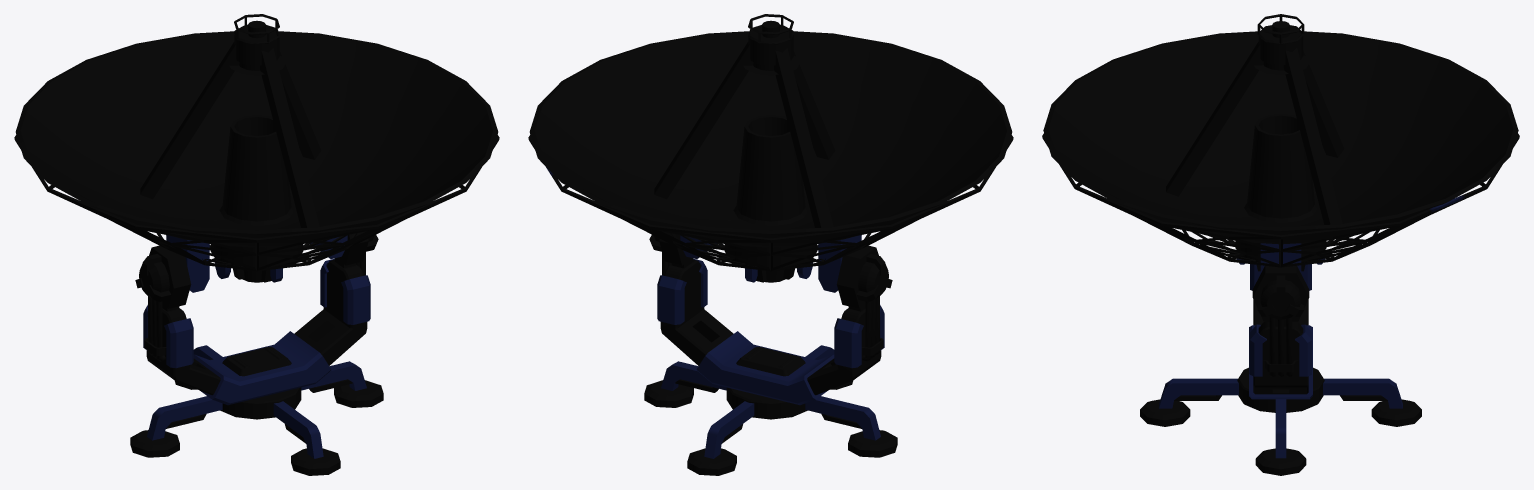
The model's file is radio_dish.glb.
3 renders of one model, left to right at view 1: azimuth 30°, elevation 25°; view 2: azimuth 150°, elevation 25°; view 3: azimuth 270°, elevation 25°, orthographic.
Visible parts, largest first — view 1: dish, support, pipes; view 2: dish, support, pipes; view 3: dish, support, pipes.
Part boxes in pixels (x1,y1,x2,y2): dish: (14,14,499,292); support: (130,231,383,475); pipes: (148,252,365,361); dish: (528,14,1013,292); support: (644,231,897,475); pipes: (662,252,879,361); dish: (1042,14,1519,273); support: (1140,264,1421,475); pipes: (1269,317,1292,377).
Size of the model in its own units: 23.32 by 21.17 by 23.32.
Materials: 2 (2 with a texture image).
